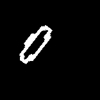chain: (20, 25, 51, 62)
